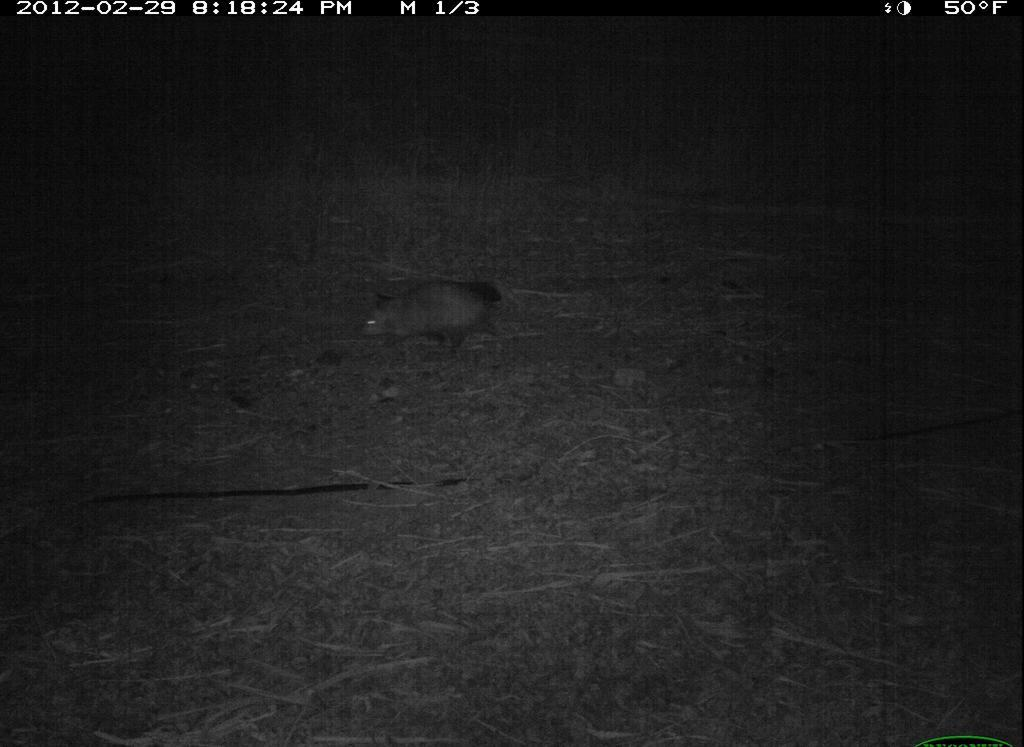opossum: (350, 260, 513, 376)
